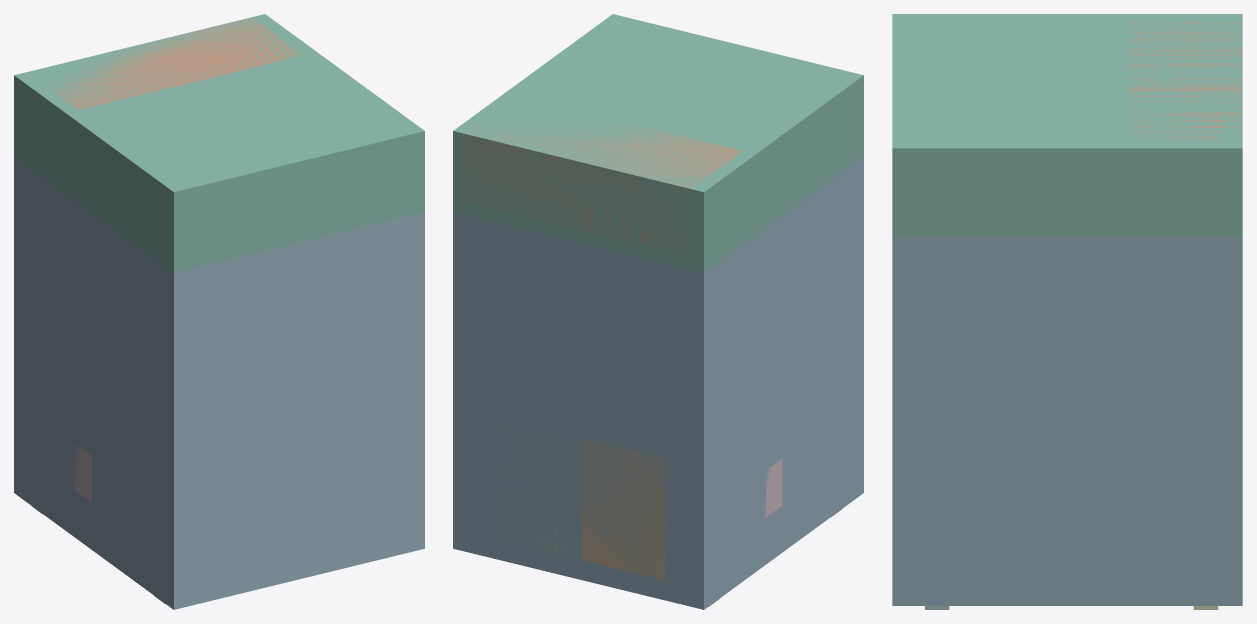
File: machine_bbox.glb
The picture shows the model from 3 angles, left to right: view 1: azimuth 30°, elevation 25°; view 2: azimuth 150°, elevation 25°; view 3: azimuth 270°, elevation 25°; orthographic projection. The views are drawn at different scales.
Parts seen in each view (by area): view 1: world; view 2: world; view 3: world.
Boxes of the visible parts, <box> form: world: <box>14,14,424,609</box>; world: <box>453,14,863,609</box>; world: <box>892,14,1242,609</box>.
Bounding box in the file's own units: 0.619 × 1 × 0.6825.
